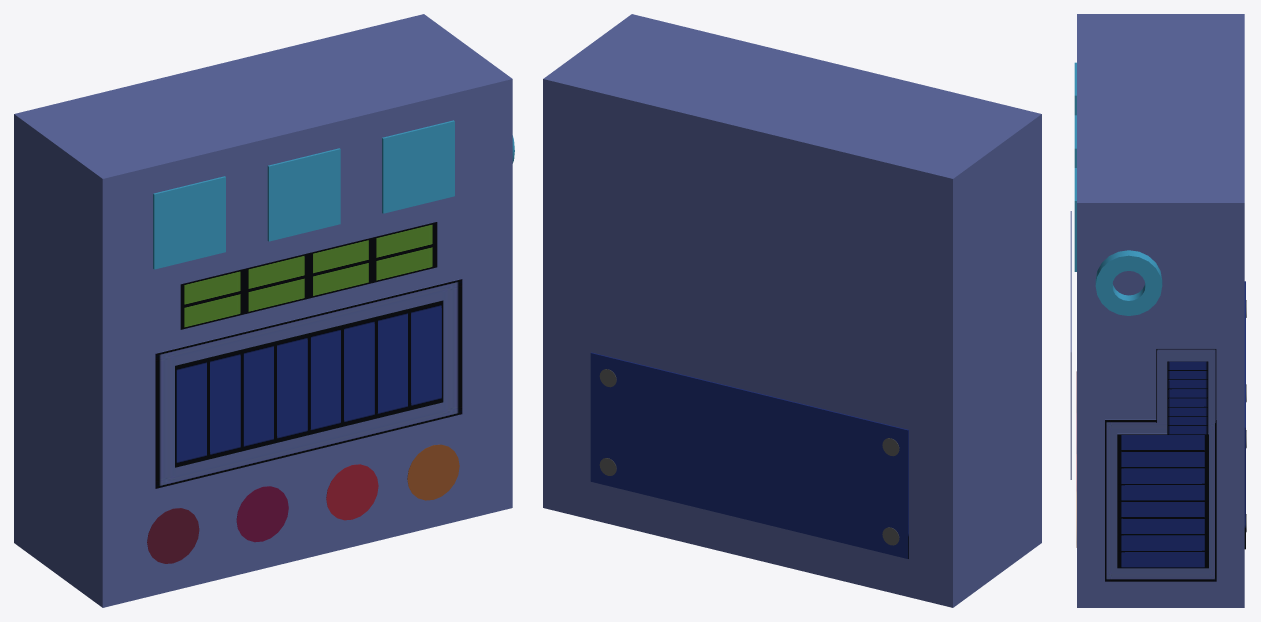
The model's file is Maquina3.obj.
3 views of the same model, side by side, from view 1: azimuth 30°, elevation 25°; view 2: azimuth 150°, elevation 25°; view 3: azimuth 270°, elevation 25° (orthographic). The views are drawn at different scales.
Parts seen in each view (by area): view 1: group11_pasted__pCube4; view 2: group11_pasted__pCube4; view 3: group11_pasted__pCube4.
Part boxes in pixels (x1=…): group11_pasted__pCube4: x1=14, y1=14, x2=514, y2=607; group11_pasted__pCube4: x1=543, y1=14, x2=1041, y2=607; group11_pasted__pCube4: x1=1070, y1=14, x2=1246, y2=607.
Size of the model in its own units: 4.12 by 4 by 1.58.
Materials: 12 (11 with a texture image).
